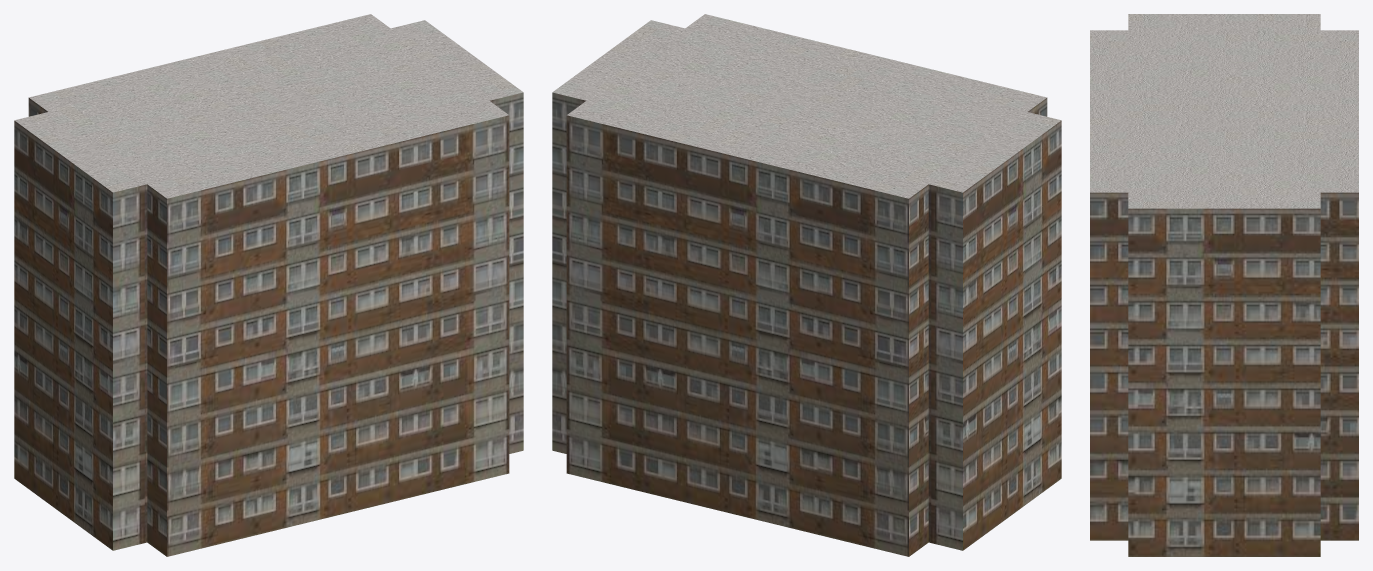
Rendered from building_032.fbx.
3 views of the same model, side by side, from view 1: azimuth 30°, elevation 25°; view 2: azimuth 150°, elevation 25°; view 3: azimuth 270°, elevation 25° (orthographic). The views are drawn at different scales.
Visible parts, largest first — view 1: building_032; view 2: building_032; view 3: building_032.
Part boxes in pixels (x1=…): building_032: x1=14, y1=14, x2=523, y2=556; building_032: x1=552, y1=14, x2=1061, y2=556; building_032: x1=1090, y1=14, x2=1358, y2=556.
Bounding box in the file's own units: 1800 × 1500 × 1050.
